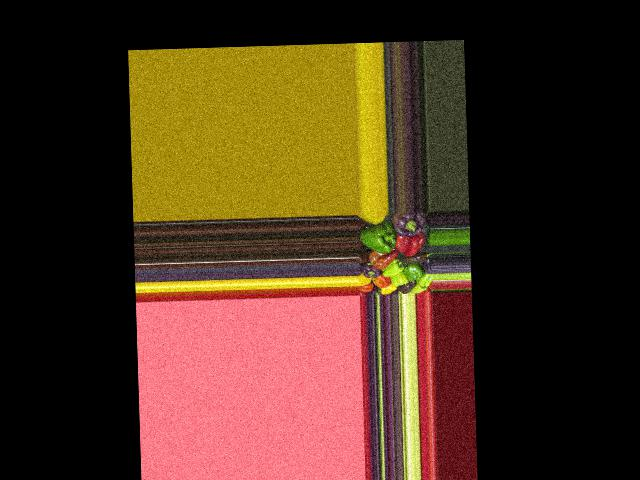bell_pepper: (360, 263, 380, 281)
